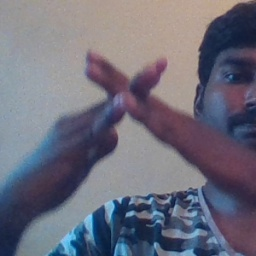W: (69, 40, 189, 171)
